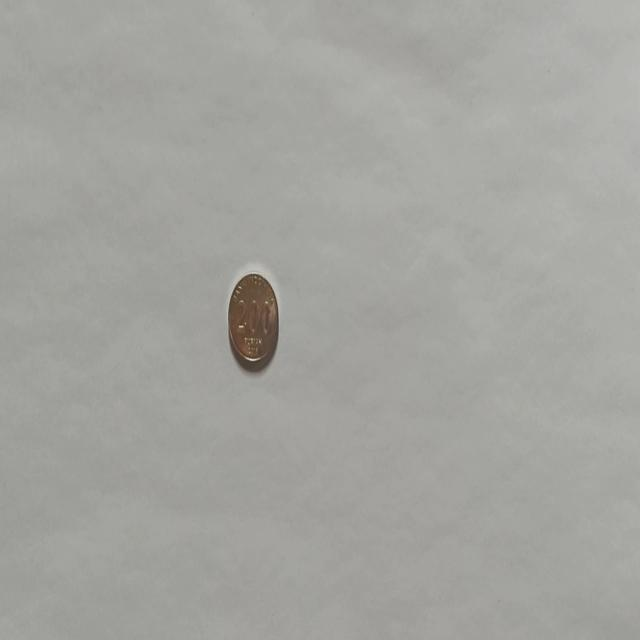dua ratus rupiah: (227, 270, 280, 372)
